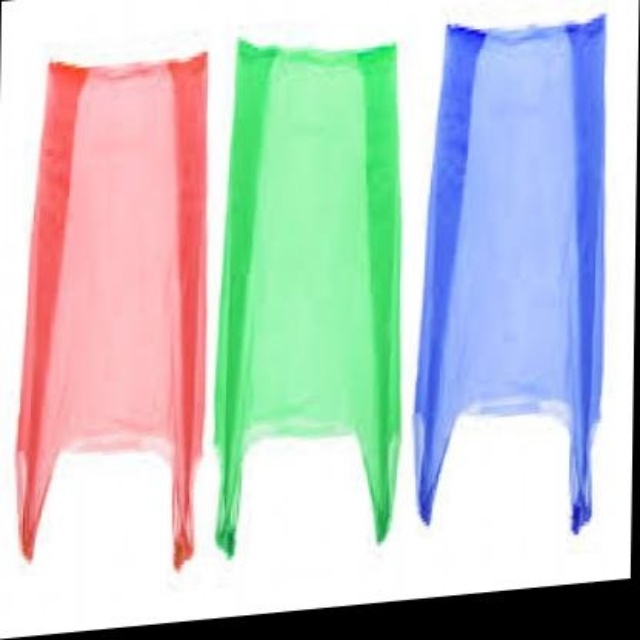trash: (414, 17, 603, 532), (15, 54, 205, 565), (215, 42, 398, 554)
